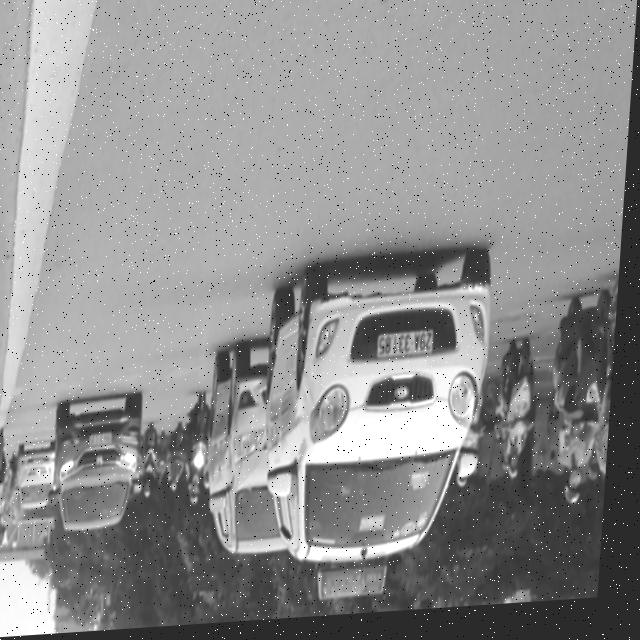plate: (379, 333, 442, 369), (95, 432, 120, 449)
